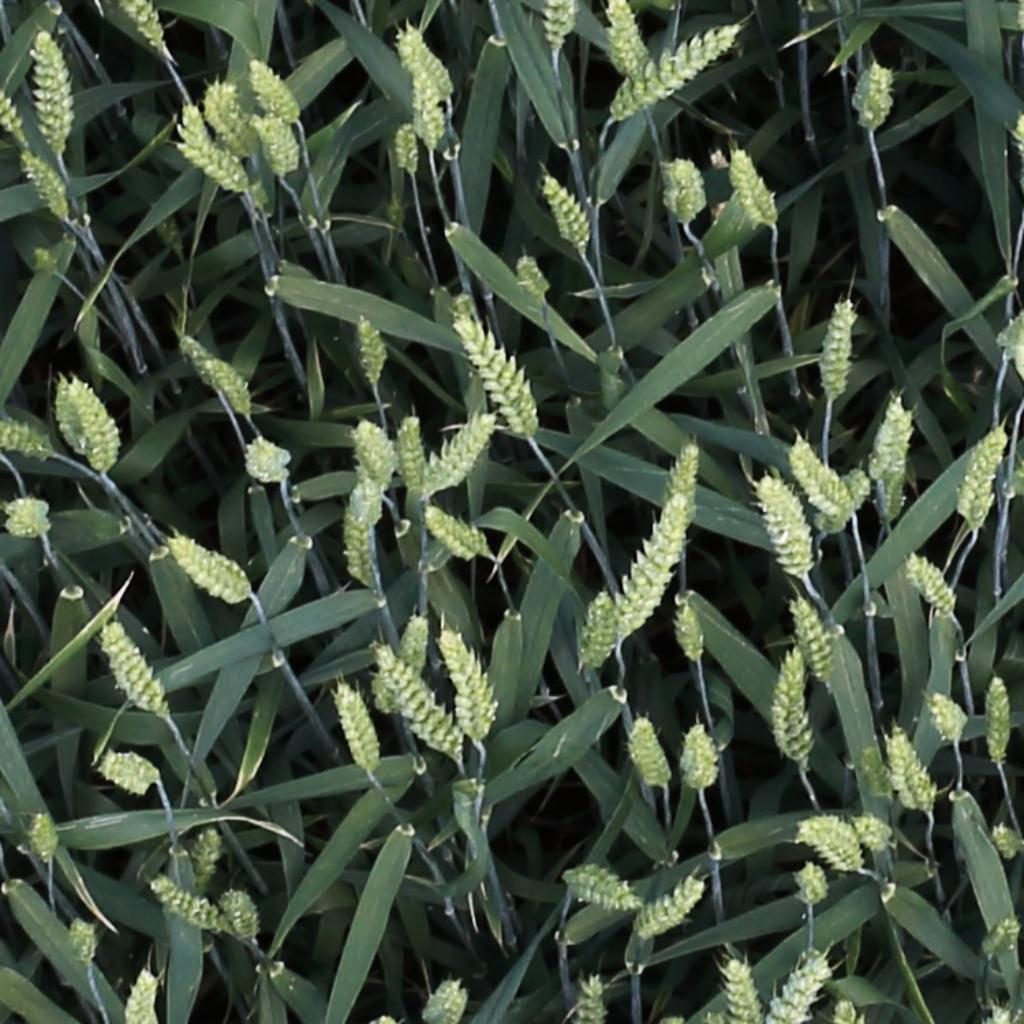0-0: (608, 24, 745, 120), (613, 488, 693, 645), (372, 647, 465, 763), (456, 316, 540, 437), (874, 724, 950, 824), (99, 619, 170, 722), (345, 467, 399, 593), (439, 626, 496, 745), (49, 370, 107, 480), (177, 105, 249, 193), (424, 410, 498, 495), (764, 639, 812, 768), (957, 421, 1010, 531), (789, 438, 857, 521), (789, 802, 866, 873), (760, 476, 812, 581), (96, 742, 167, 812), (333, 679, 382, 780), (170, 537, 248, 600), (729, 140, 783, 230), (397, 23, 458, 102), (539, 167, 595, 253), (15, 140, 73, 223), (148, 877, 230, 935), (204, 76, 260, 159), (245, 51, 304, 128), (636, 879, 708, 942), (771, 953, 834, 1024), (791, 593, 838, 688), (34, 28, 68, 155), (202, 349, 259, 421), (902, 550, 961, 619), (872, 390, 912, 487), (824, 468, 876, 540), (353, 413, 400, 491), (879, 412, 912, 521), (663, 142, 704, 229), (607, 0, 651, 80), (424, 505, 490, 558), (666, 435, 704, 527), (632, 712, 674, 794), (253, 106, 299, 180), (825, 292, 856, 400), (565, 871, 643, 913), (581, 588, 618, 674), (410, 64, 445, 154), (924, 686, 970, 748), (353, 308, 389, 386), (189, 823, 223, 905), (219, 884, 260, 948), (121, 0, 170, 53), (399, 413, 427, 504), (985, 671, 1010, 771), (0, 54, 28, 143), (726, 954, 761, 1024), (513, 247, 554, 305), (977, 913, 1022, 965), (686, 719, 715, 798), (864, 58, 894, 133), (422, 979, 472, 1024), (401, 608, 431, 682), (677, 598, 707, 669), (245, 438, 290, 484), (125, 963, 158, 1024), (850, 58, 882, 118), (28, 808, 58, 871), (5, 496, 51, 537), (0, 415, 47, 454), (798, 860, 831, 914), (853, 816, 897, 854), (394, 113, 420, 177), (544, 0, 572, 57), (68, 914, 96, 969), (988, 823, 1024, 865), (582, 968, 607, 1024), (835, 991, 862, 1024)
